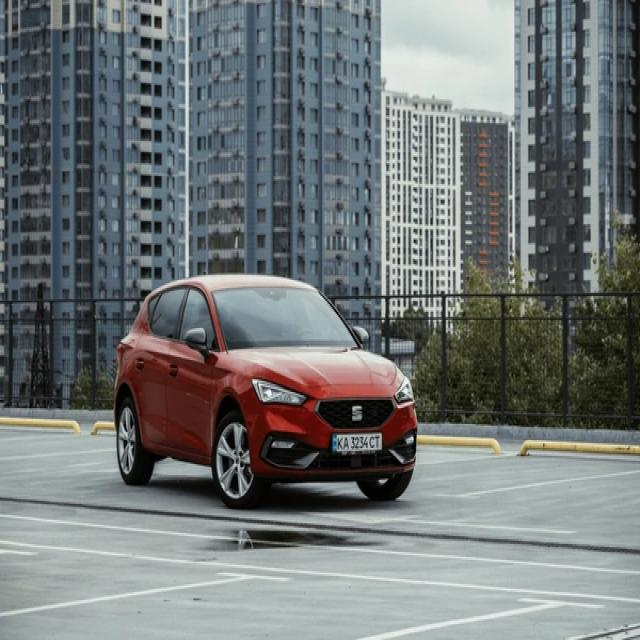seat: (352, 404, 364, 424)
